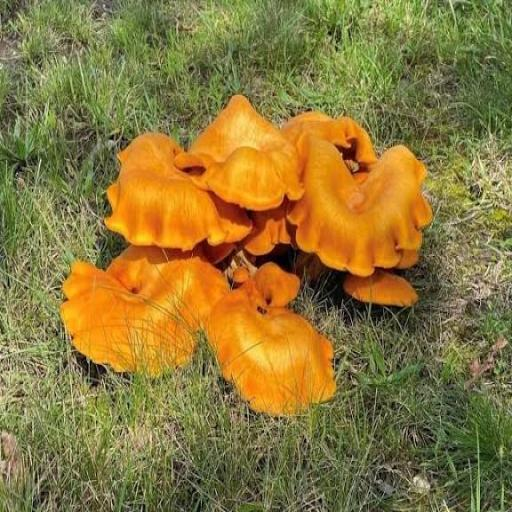Jack O Lantern Mushroom: (59, 246, 239, 383), (271, 137, 434, 276), (199, 279, 341, 424), (99, 128, 261, 253), (176, 93, 306, 214)
